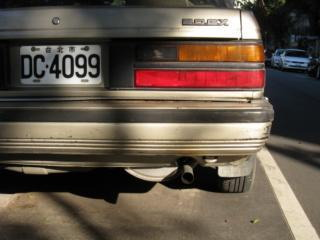plate: (18, 41, 105, 85)
